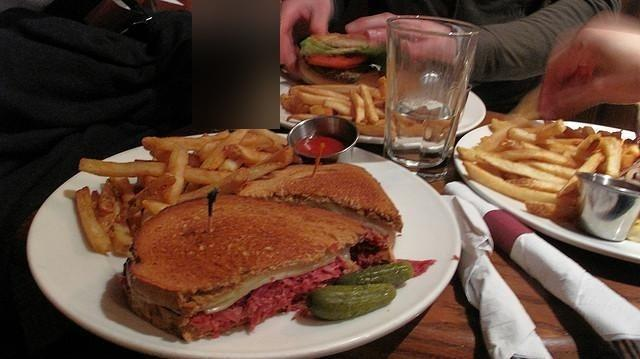glass-normal: (384, 15, 481, 177)
